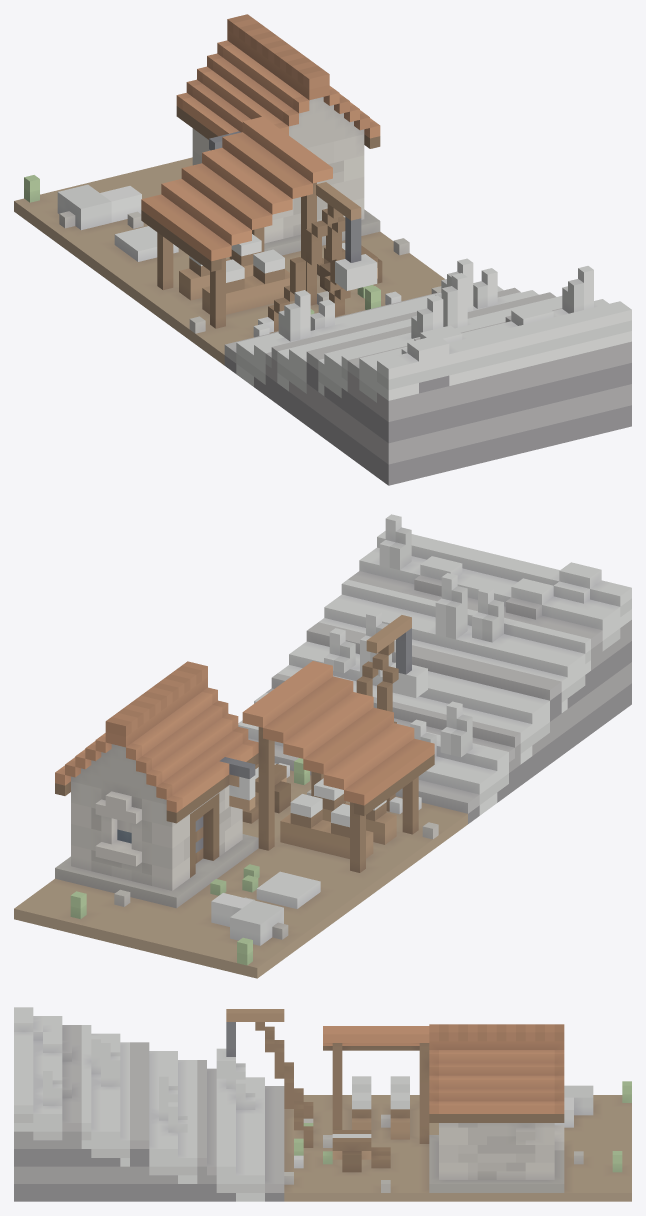
The model's file is quartz_quarry.glb.
The picture shows the model from 3 angles, top to bottom: view 1: azimuth 30°, elevation 25°; view 2: azimuth 150°, elevation 25°; view 3: azimuth 270°, elevation 25°; orthographic projection. The views are drawn at different scales.
Parts seen in each view (by area): view 1: quartz_quarry; view 2: quartz_quarry; view 3: quartz_quarry.
Part boxes in pixels (left/top/right/bottom): quartz_quarry: left=14, top=14, right=631, bottom=485; quartz_quarry: left=14, top=514, right=631, bottom=978; quartz_quarry: left=14, top=1007, right=631, bottom=1201.
Size of the model in its own units: 3 by 2.12 by 8.
